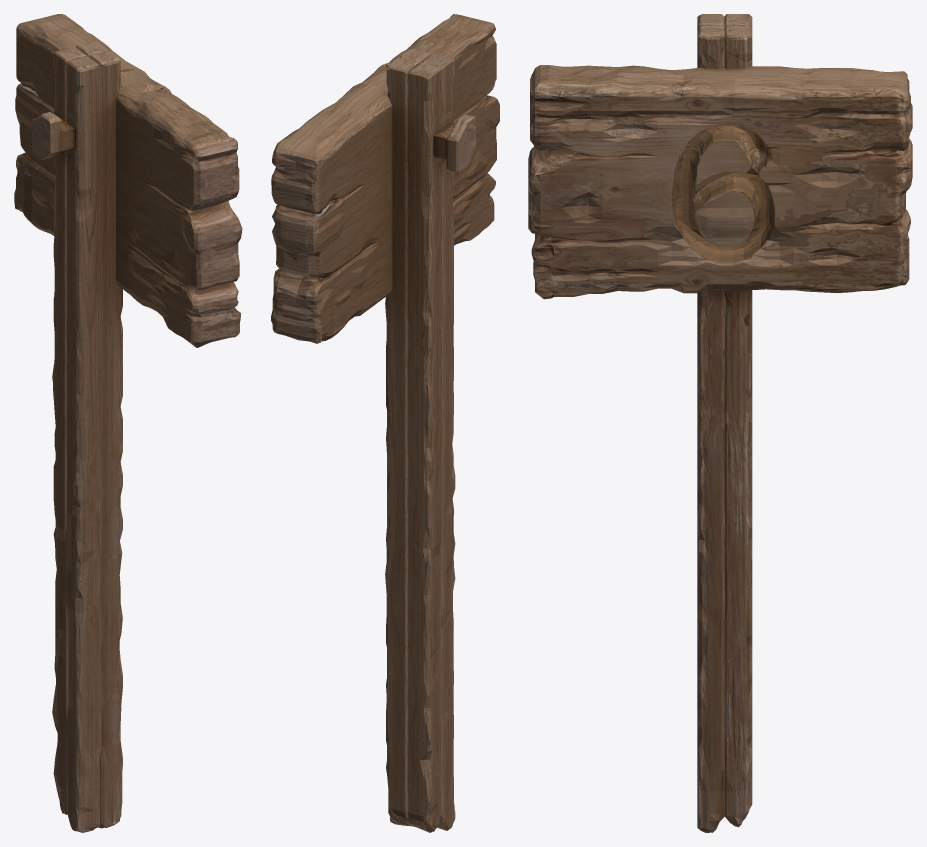
Rendered from Letrero 6.glb.
The picture shows the model from 3 angles, left to right: view 1: azimuth 30°, elevation 25°; view 2: azimuth 150°, elevation 25°; view 3: azimuth 270°, elevation 25°; orthographic projection. The views are drawn at different scales.
Visible parts, largest first — view 1: tripo_node_f7af372e-0059-44c1-a741-c6c222bde147; view 2: tripo_node_f7af372e-0059-44c1-a741-c6c222bde147; view 3: tripo_node_f7af372e-0059-44c1-a741-c6c222bde147.
Boxes of the visible parts, x1,y1,x2,y2 form: tripo_node_f7af372e-0059-44c1-a741-c6c222bde147: [14, 14, 242, 832]; tripo_node_f7af372e-0059-44c1-a741-c6c222bde147: [271, 14, 499, 832]; tripo_node_f7af372e-0059-44c1-a741-c6c222bde147: [528, 14, 912, 832].
Bounding box in the file's own units: 0.1507 × 1 × 0.4364.
1 material, 1 textured.
